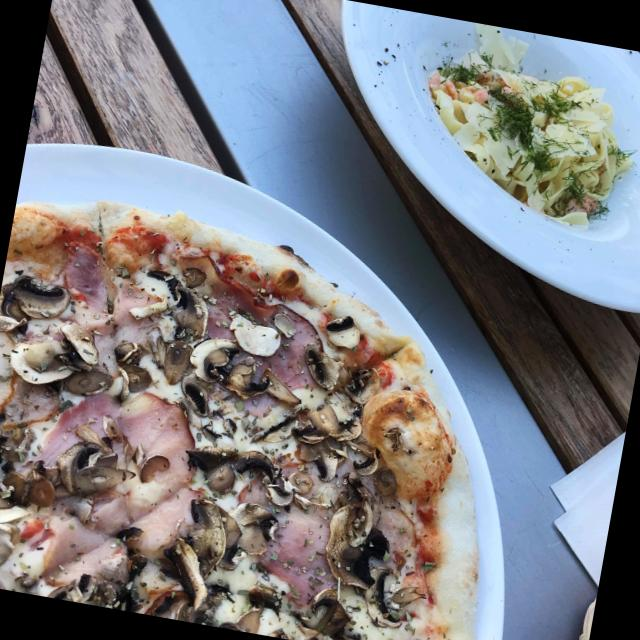mushrooms: (306, 465, 430, 632), (180, 328, 312, 412), (163, 488, 236, 611), (122, 263, 214, 349), (180, 432, 282, 508), (30, 429, 128, 505), (100, 526, 184, 614), (297, 337, 390, 407), (6, 331, 84, 397), (100, 333, 163, 408), (293, 396, 366, 454), (0, 457, 58, 529), (2, 267, 70, 323), (302, 583, 359, 640), (58, 308, 108, 365), (224, 312, 283, 358), (126, 438, 170, 493), (320, 310, 364, 350), (0, 309, 38, 348), (0, 415, 14, 479)
pizza: (0, 201, 478, 640)
